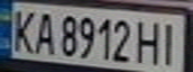1: (93, 15, 115, 61)
2: (112, 16, 136, 64)
8: (54, 11, 81, 57)
9: (75, 12, 96, 60)
A: (30, 8, 57, 55)
H: (133, 17, 163, 65)
I: (154, 18, 184, 65)
K: (6, 6, 39, 54)
